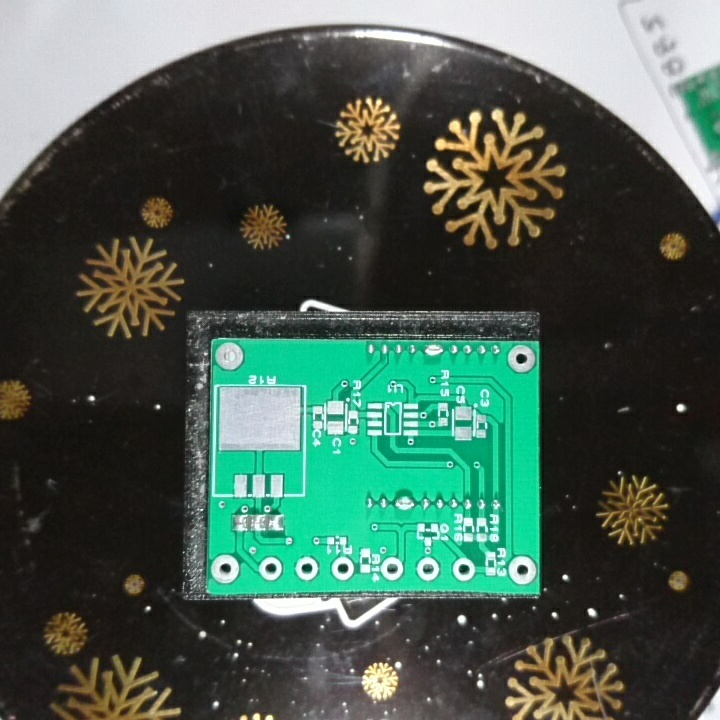F: (506, 342, 537, 379), (213, 340, 245, 375), (209, 553, 241, 587), (507, 555, 537, 587), (294, 555, 321, 585), (379, 556, 406, 584), (414, 555, 441, 583), (258, 554, 284, 583), (329, 556, 355, 583), (451, 558, 476, 586)
P: (394, 491, 414, 513), (422, 343, 443, 359)
